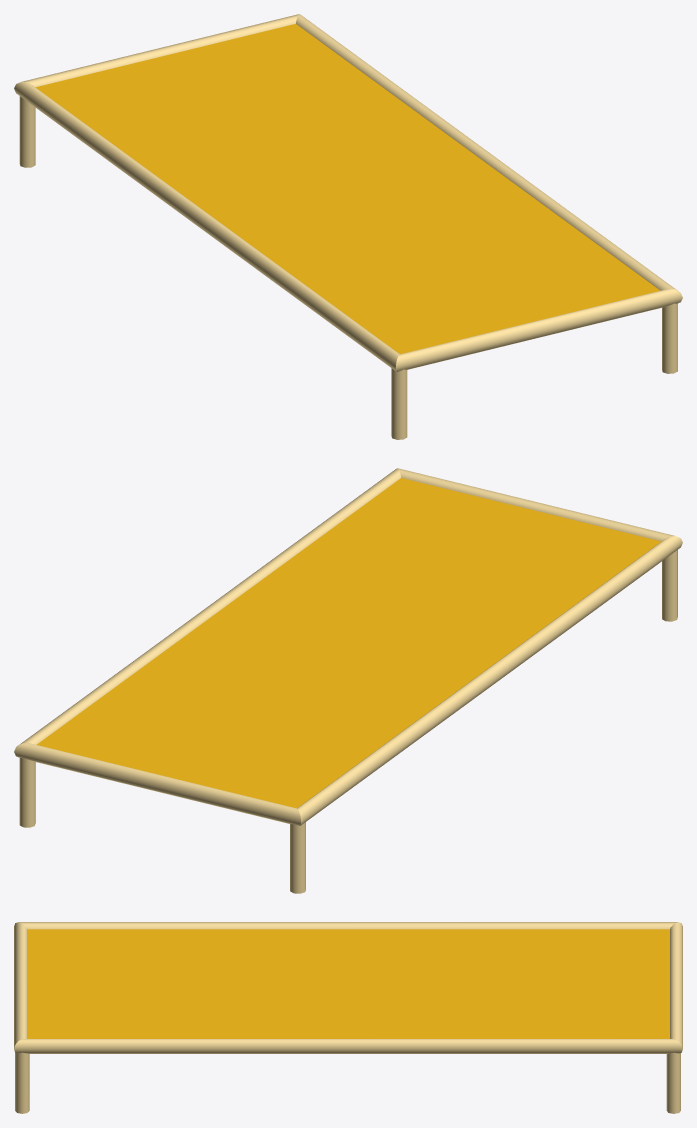
The model's file is SleepingCot.fbx.
3 views of the same model, one above another, from view 1: azimuth 30°, elevation 25°; view 2: azimuth 150°, elevation 25°; view 3: azimuth 270°, elevation 25° (orthographic). The views are drawn at different scales.
Visible parts, largest first — view 1: SleepingCot; view 2: SleepingCot; view 3: SleepingCot.
Boxes of the visible parts, <box> form: SleepingCot: <box>14,14,682,439</box>; SleepingCot: <box>14,468,682,893</box>; SleepingCot: <box>14,922,682,1113</box>.
Bounding box in the file's own units: 143 × 38.91 × 330.
